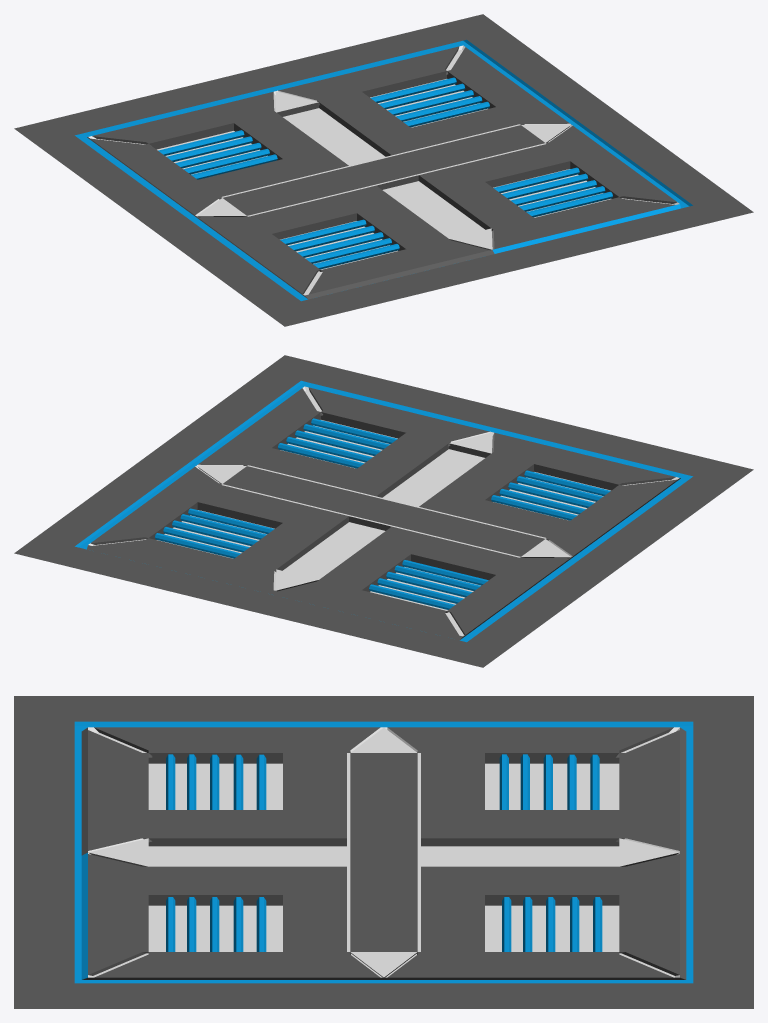
The model's file is piso2.fbx.
The picture shows the model from 3 angles, top to bottom: view 1: azimuth 30°, elevation 25°; view 2: azimuth 150°, elevation 25°; view 3: azimuth 270°, elevation 25°; orthographic projection. The views are drawn at different scales.
Visible parts, largest first — view 1: polySurface6; view 2: polySurface6; view 3: polySurface6.
Part boxes in pixels (<box>): polySurface6: <box>14,14,753,326</box>; polySurface6: <box>14,355,753,667</box>; polySurface6: <box>14,696,753,1008</box>.
Bounding box in the file's own units: 6.98 × 0.1099 × 6.98.
